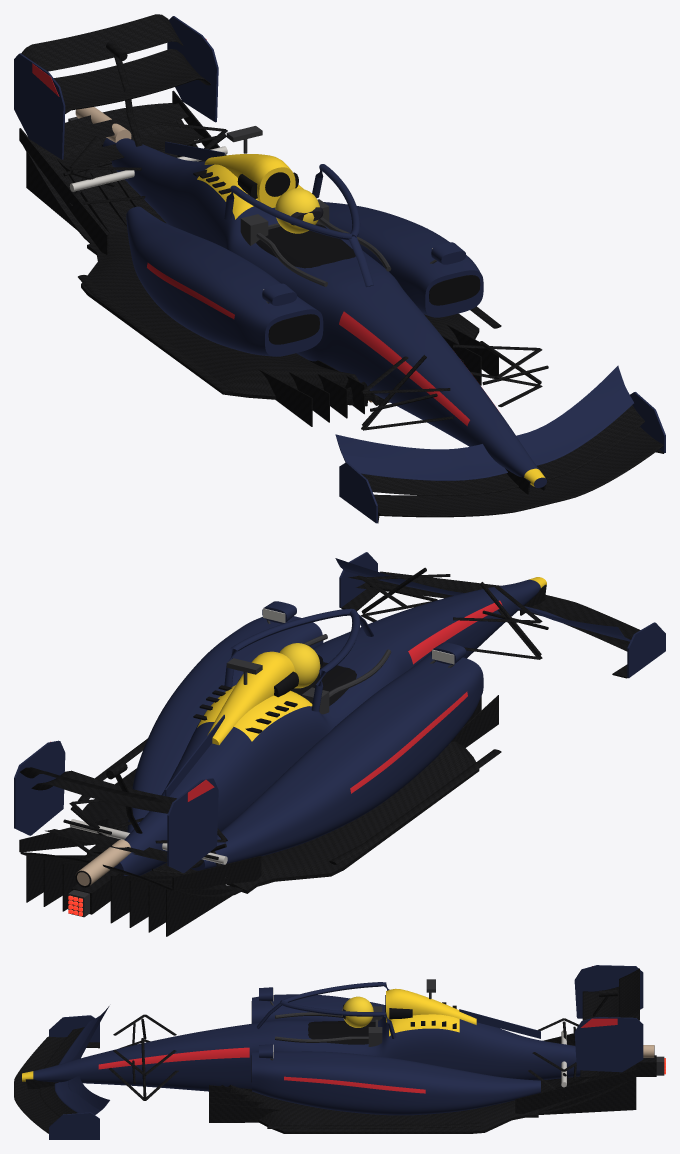
File: f1_2025_body.glb
3 views of the same model, one above another, from view 1: azimuth 30°, elevation 25°; view 2: azimuth 150°, elevation 25°; view 3: azimuth 270°, elevation 25° (orthographic). The views are drawn at different scales.
Visible parts, largest first — view 1: body_Livery, body_Carbon, body_Inlet, body_AccentYellow, body_AccentRed, body_Halo, body_CarbonMatte, body_Helmet, body_Metal; view 2: body_Livery, body_Carbon, body_AccentYellow, body_AccentRed, body_Halo, body_Inlet, body_CarbonMatte, body_Helmet, body_Exhaust, body_Metal; view 3: body_Livery, body_Carbon, body_AccentYellow, body_AccentRed, body_Inlet, body_CarbonMatte, body_Halo, body_Helmet.
Part boxes in pixels (x1=…): body_Livery: x1=14, y1=16, x2=665, y2=523; body_Carbon: x1=19, y1=14, x2=663, y2=523; body_Inlet: x1=193, y1=169, x2=480, y2=344; body_AccentYellow: x1=197, y1=154, x2=545, y2=486; body_AccentRed: x1=32, y1=38, x2=498, y2=426; body_Halo: x1=224, y1=164, x2=373, y2=286; body_CarbonMatte: x1=68, y1=117, x2=436, y2=303; body_Helmet: x1=275, y1=188, x2=319, y2=233; body_Metal: x1=69, y1=146, x2=432, y2=290; body_Livery: x1=14, y1=552, x2=665, y2=875; body_Carbon: x1=19, y1=567, x2=640, y2=936; body_AccentYellow: x1=197, y1=577, x2=546, y2=745; body_AccentRed: x1=50, y1=600, x2=502, y2=801; body_Halo: x1=224, y1=608, x2=373, y2=711; body_Inlet: x1=75, y1=662, x2=356, y2=887; body_CarbonMatte: x1=68, y1=620, x2=454, y2=917; body_Helmet: x1=279, y1=643, x2=320, y2=688; body_Exhaust: x1=76, y1=839, x2=131, y2=885; body_Metal: x1=69, y1=608, x2=454, y2=864; body_Livery: x1=33, y1=965, x2=643, y2=1139; body_Carbon: x1=14, y1=968, x2=656, y2=1133; body_AccentYellow: x1=22, y1=988, x2=476, y2=1081; body_AccentRed: x1=98, y1=966, x2=617, y2=1093; body_Inlet: x1=251, y1=995, x2=654, y2=1082; body_CarbonMatte: x1=270, y1=979, x2=664, y2=1075; body_Halo: x1=257, y1=982, x2=396, y2=1038; body_Helmet: x1=342, y1=996, x2=373, y2=1027.
Size of the model in its own units: 1.99 by 1.03 by 5.6.
Materials: 14 (1 with a texture image).
